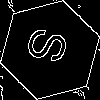S: (25, 25, 78, 69)
